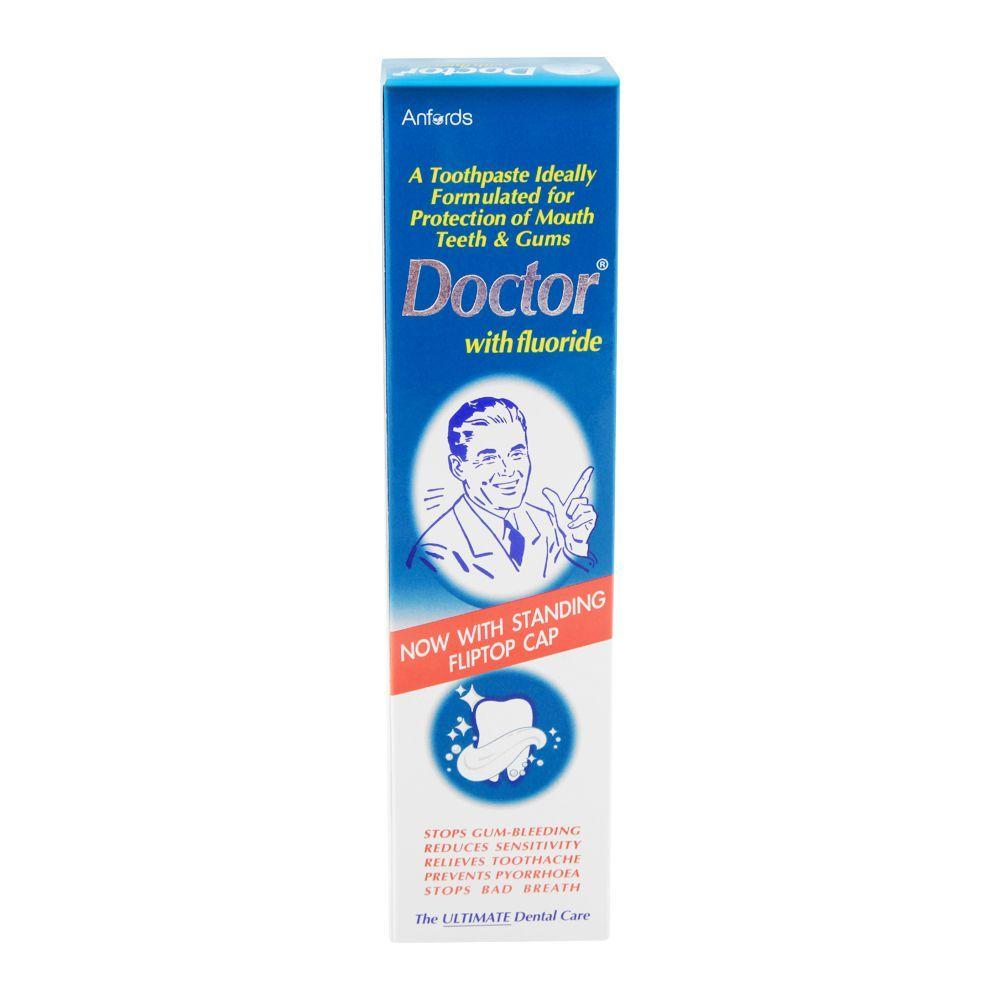toothpaste: (372, 29, 622, 943)
